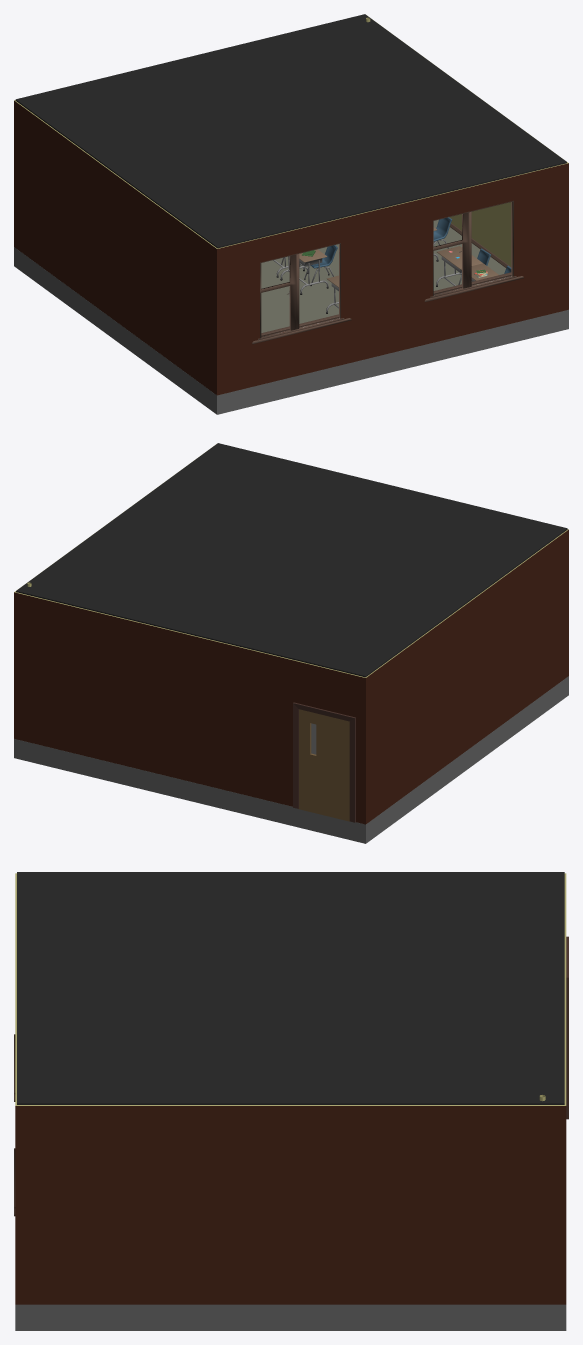
Rendered from VRCLASSROOM.fbx.
3 renders of one model, top to bottom at view 1: azimuth 30°, elevation 25°; view 2: azimuth 150°, elevation 25°; view 3: azimuth 270°, elevation 25°, orthographic. The views are drawn at different scales.
Parts seen in each view (by area): view 1: LowPoly_ClassRoom1; view 2: LowPoly_ClassRoom1; view 3: LowPoly_ClassRoom1.
Boxes of the visible parts, bbox=[...] form: LowPoly_ClassRoom1: bbox=[14, 14, 568, 414]; LowPoly_ClassRoom1: bbox=[14, 443, 568, 843]; LowPoly_ClassRoom1: bbox=[14, 872, 568, 1330].
Bounding box in the file's own units: 0.352 × 0.1625 × 0.3546.
Materials: 1 (1 with a texture image).
